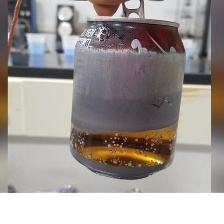can: (62, 10, 188, 186)
